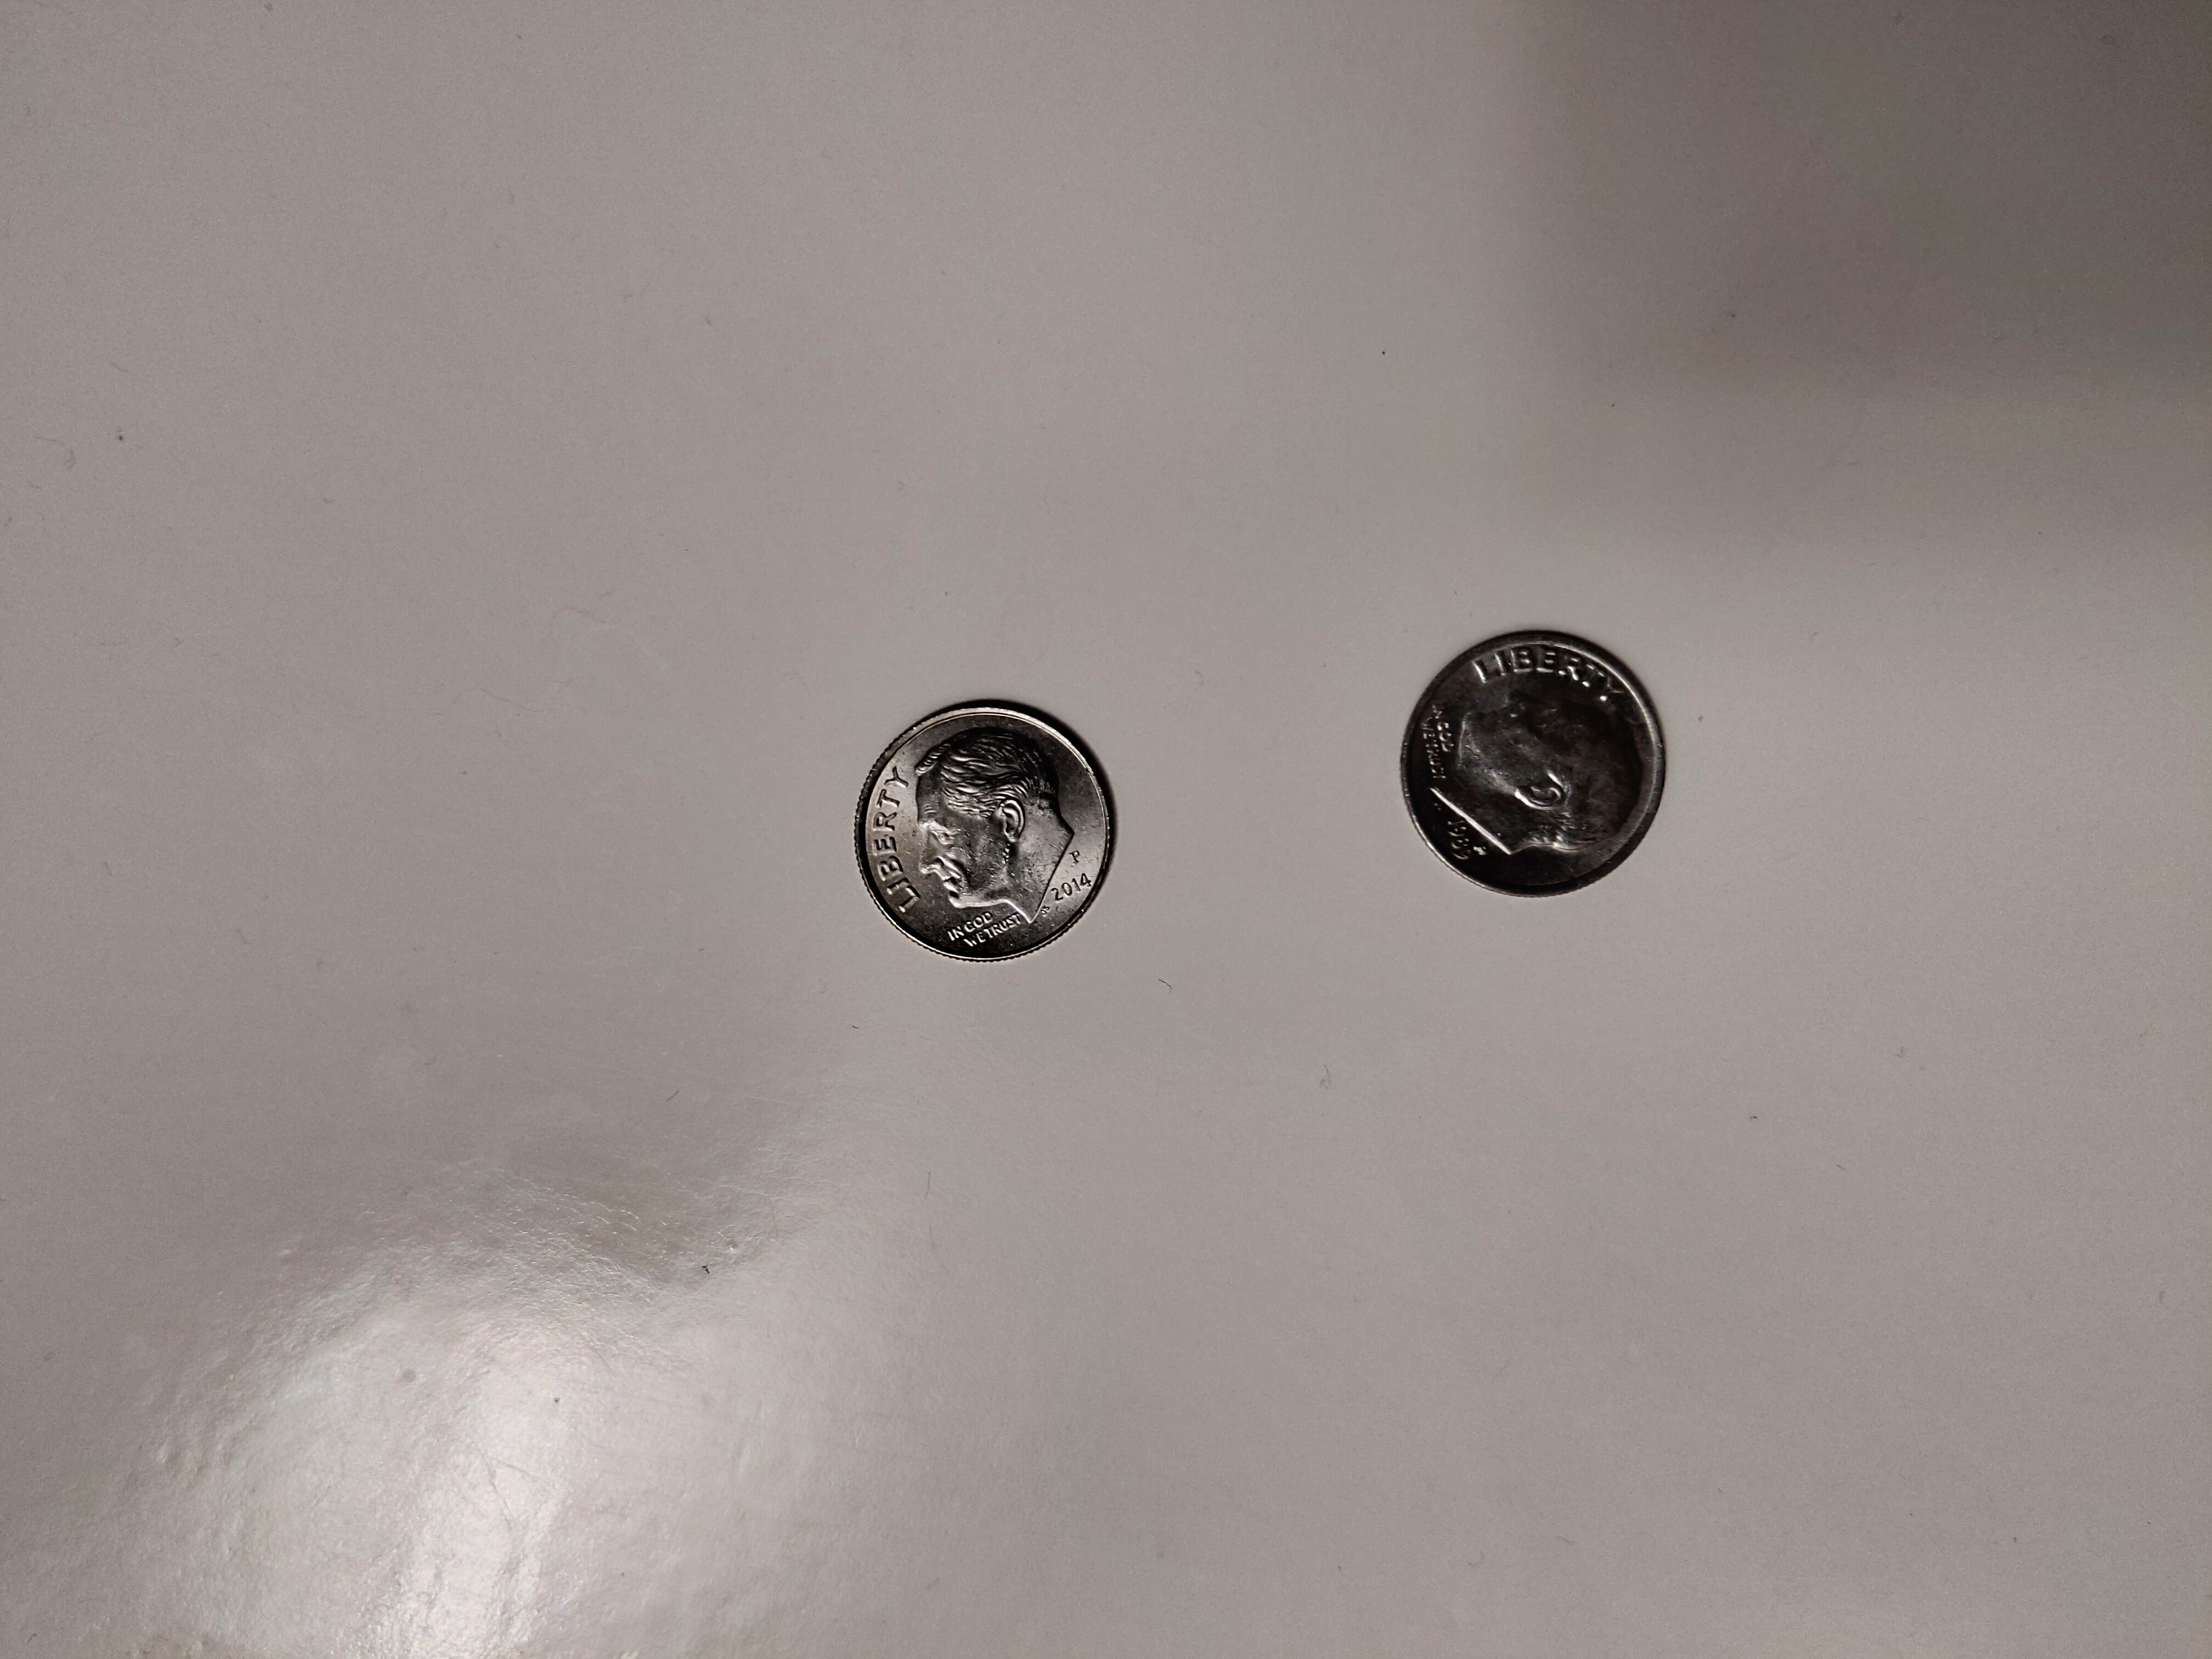Dime: (1397, 627, 1669, 897), (852, 699, 1116, 964)
